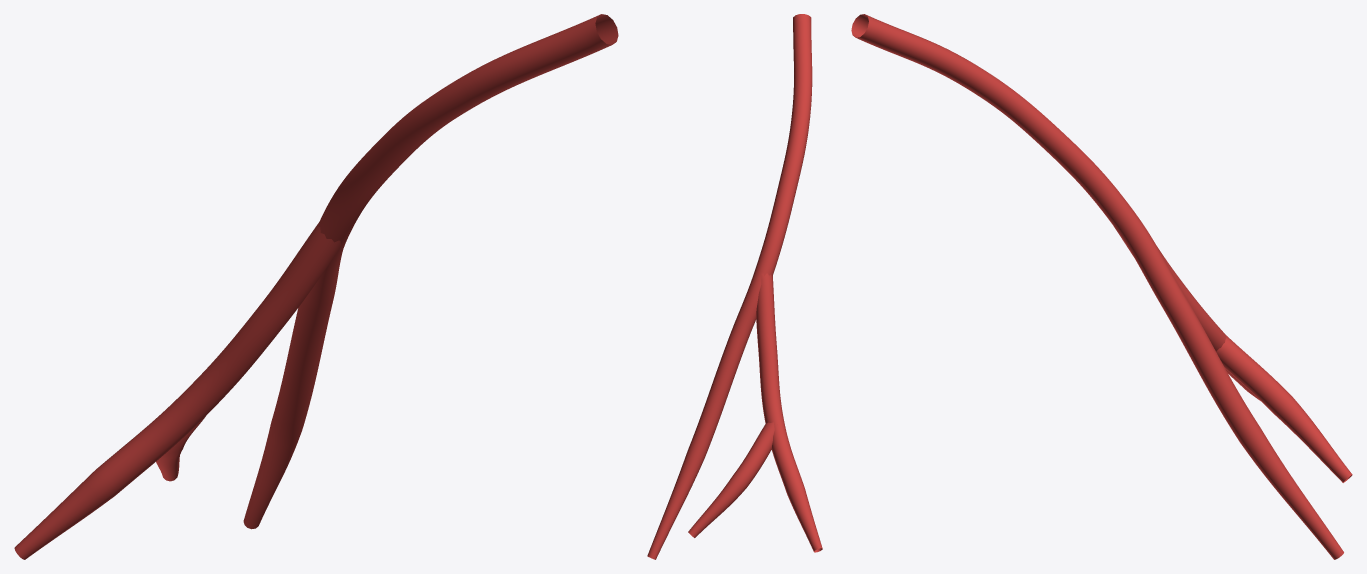
3 renders of one model, left to right at view 1: azimuth 30°, elevation 25°; view 2: azimuth 150°, elevation 25°; view 3: azimuth 270°, elevation 25°, orthographic. The views are drawn at different scales.
Parts seen in each view (by area): view 1: 右肺内侧段动脉; view 2: 右肺内侧段动脉; view 3: 右肺内侧段动脉.
Part boxes in pixels (x1,y1,x2,y2): 右肺内侧段动脉: (14, 14, 618, 559); 右肺内侧段动脉: (647, 14, 822, 559); 右肺内侧段动脉: (851, 14, 1352, 559).
Bounding box in the file's own units: 0.0671 × 0.1425 × 0.1156.
